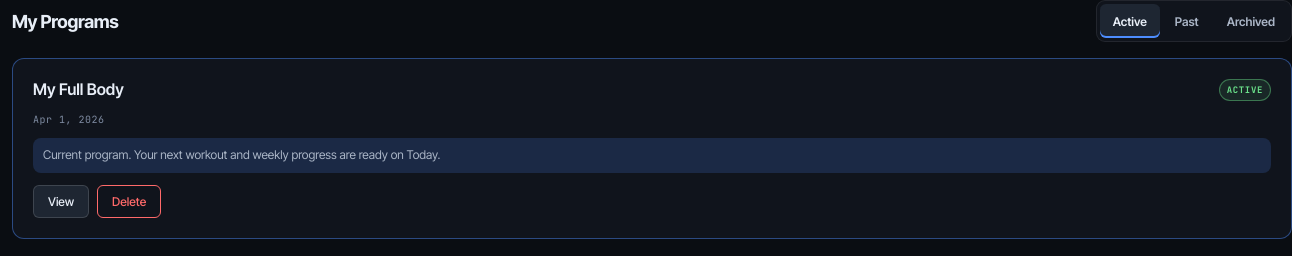
Test: <MyLibrary> › Past tab shows a Restart button, not a View button
Expected: the heading "My Full Body" is shown, x1=33 y1=79 x2=124 y2=99
Click the button "Past": (1187, 21) x1=1162 y1=4 x2=1212 y2=38
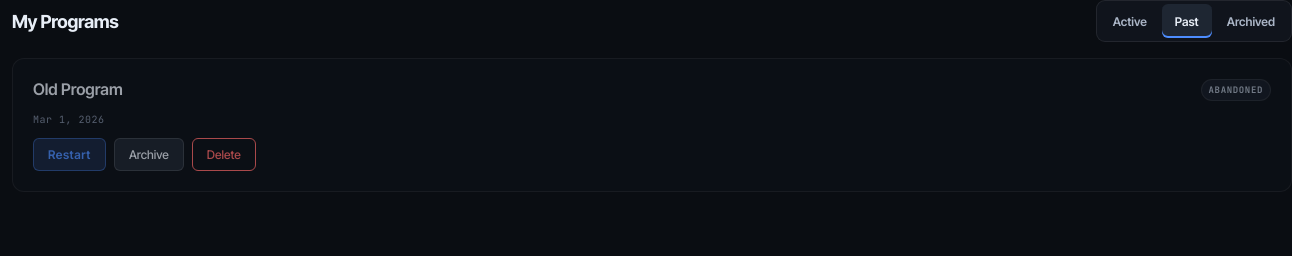
Expected: the heading "Old Program" is shown, x1=33 y1=79 x2=123 y2=99
Expected: the button "Restart" is shown, x1=33 y1=138 x2=106 y2=171
Expected: the button "View" is gone
